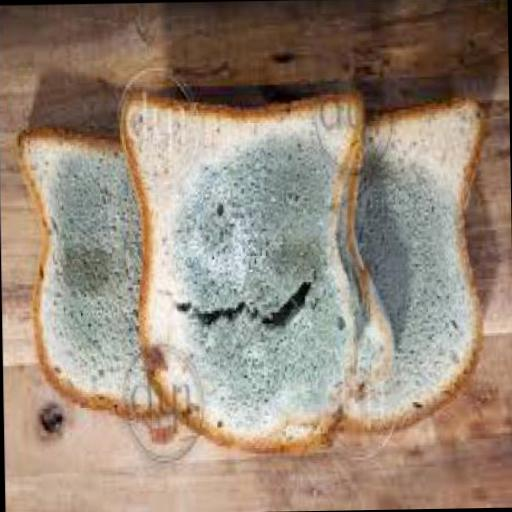biodegradable: (118, 90, 396, 460), (328, 102, 494, 441), (19, 126, 179, 424)
